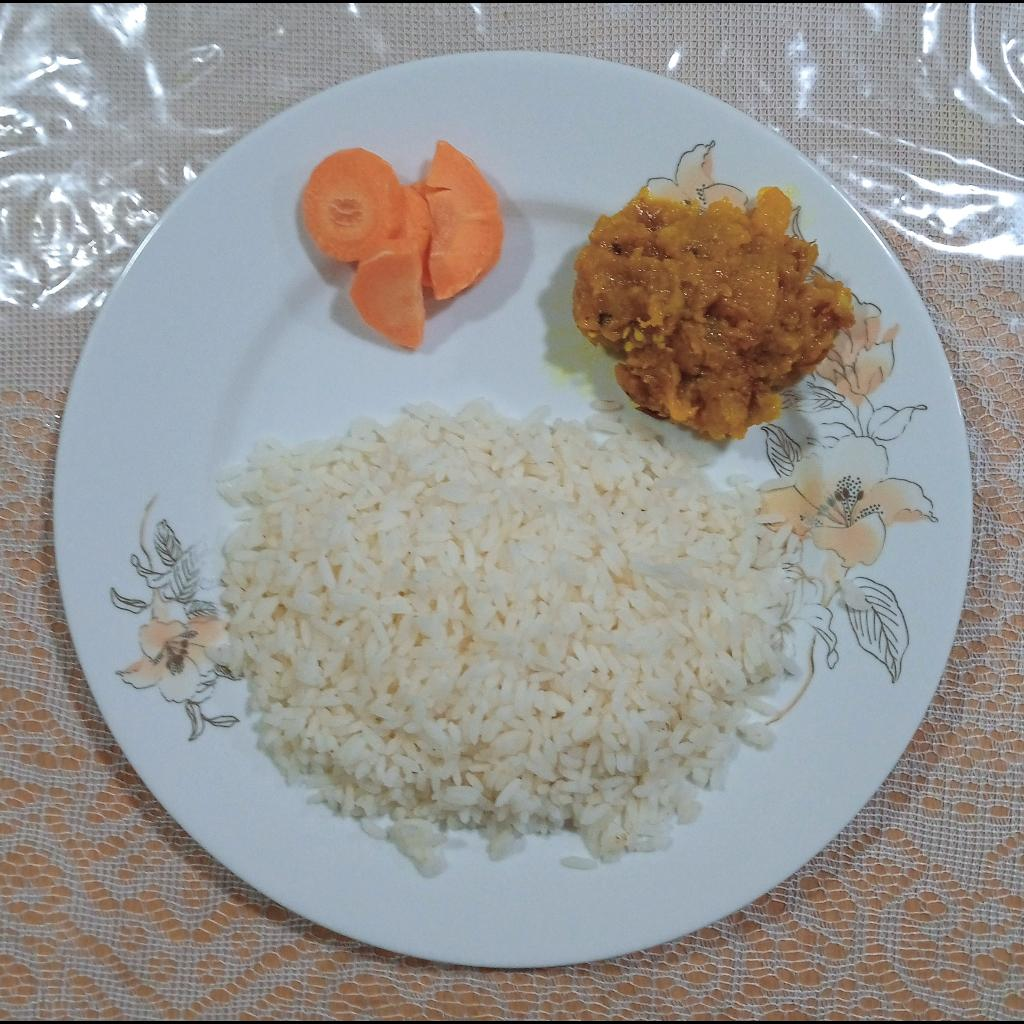carrot: (301, 142, 505, 350)
kumra-vaji: (572, 186, 853, 440)
rice: (209, 400, 802, 870)
